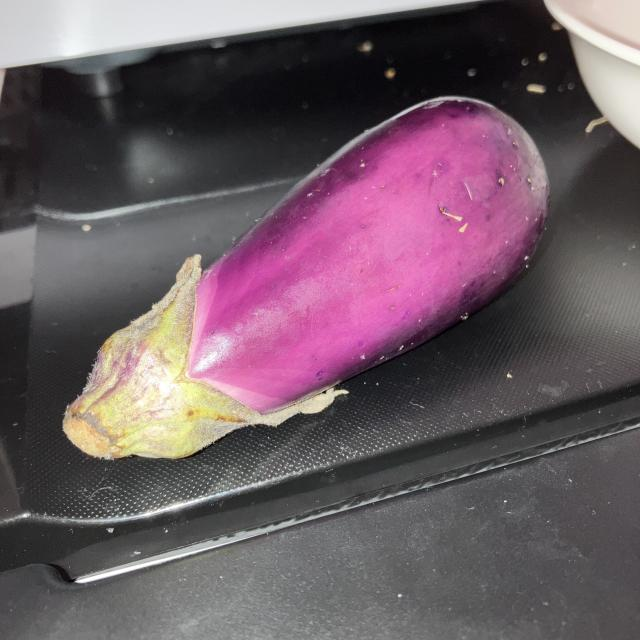eggplant: (55, 95, 553, 470)
